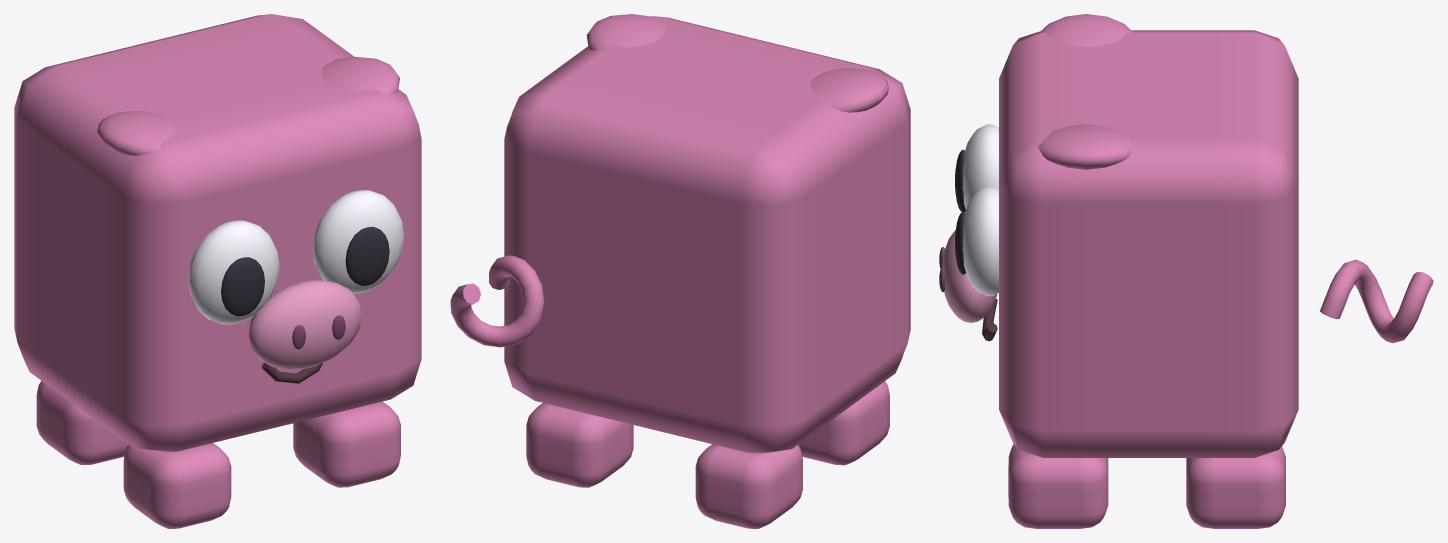
The model's file is pet-pig.glb.
3 renders of one model, left to right at view 1: azimuth 30°, elevation 25°; view 2: azimuth 150°, elevation 25°; view 3: azimuth 270°, elevation 25°, orthographic. The views are drawn at different scales.
Parts seen in each view (by area): view 1: body, foot_L_front, snout, foot_R_front, eye_white_-1, eye_white_1, floppy_ear (×2), foot_L_back, pupil_-1, pupil_1, smile; view 2: body, foot_L_back, foot_R_back, floppy_ear (×2), curly_tail, foot_L_front; view 3: body, foot_R_front, foot_R_back, floppy_ear (×2), curly_tail, eye_white_1, eye_white_-1, snout.
Part boxes in pixels (x1=…): body: x1=14, y1=14, x2=421, y2=452; foot_L_front: x1=123, y1=443, x2=231, y2=528; snout: x1=248, y1=280, x2=361, y2=369; foot_R_front: x1=293, y1=401, x2=400, y2=487; eye_white_-1: x1=188, y1=220, x2=279, y2=324; eye_white_1: x1=312, y1=190, x2=404, y2=293; floppy_ear (×2): x1=97, y1=56, x2=399, y2=155; foot_L_back: x1=36, y1=381, x2=128, y2=464; pupil_-1: x1=221, y1=257, x2=264, y2=316; pupil_1: x1=345, y1=226, x2=389, y2=285; smile: x1=261, y1=362, x2=322, y2=383; body: x1=504, y1=16, x2=910, y2=453; foot_L_back: x1=695, y1=444, x2=802, y2=528; foot_R_back: x1=526, y1=403, x2=633, y2=487; floppy_ear (×2): x1=586, y1=14, x2=888, y2=112; curly_tail: x1=450, y1=255, x2=544, y2=347; foot_L_front: x1=798, y1=381, x2=889, y2=465; body: x1=999, y1=30, x2=1298, y2=457; foot_R_front: x1=1008, y1=444, x2=1108, y2=528; foot_R_back: x1=1186, y1=446, x2=1285, y2=528; floppy_ear (×2): x1=1037, y1=14, x2=1132, y2=169; curly_tail: x1=1320, y1=259, x2=1433, y2=343; eye_white_1: x1=962, y1=186, x2=998, y2=296; eye_white_-1: x1=962, y1=124, x2=998, y2=209; snout: x1=942, y1=230, x2=997, y2=322.
Size of the model in its own units: 1.12 by 1.4 by 1.59.
